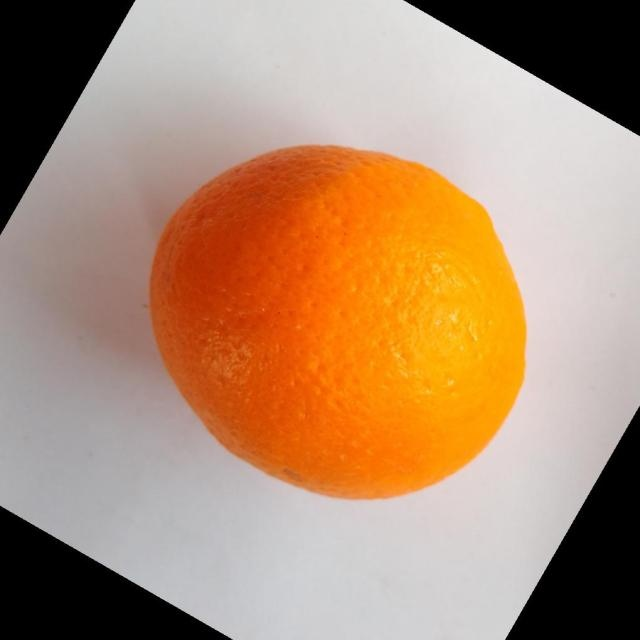agrume: (147, 142, 528, 501)
